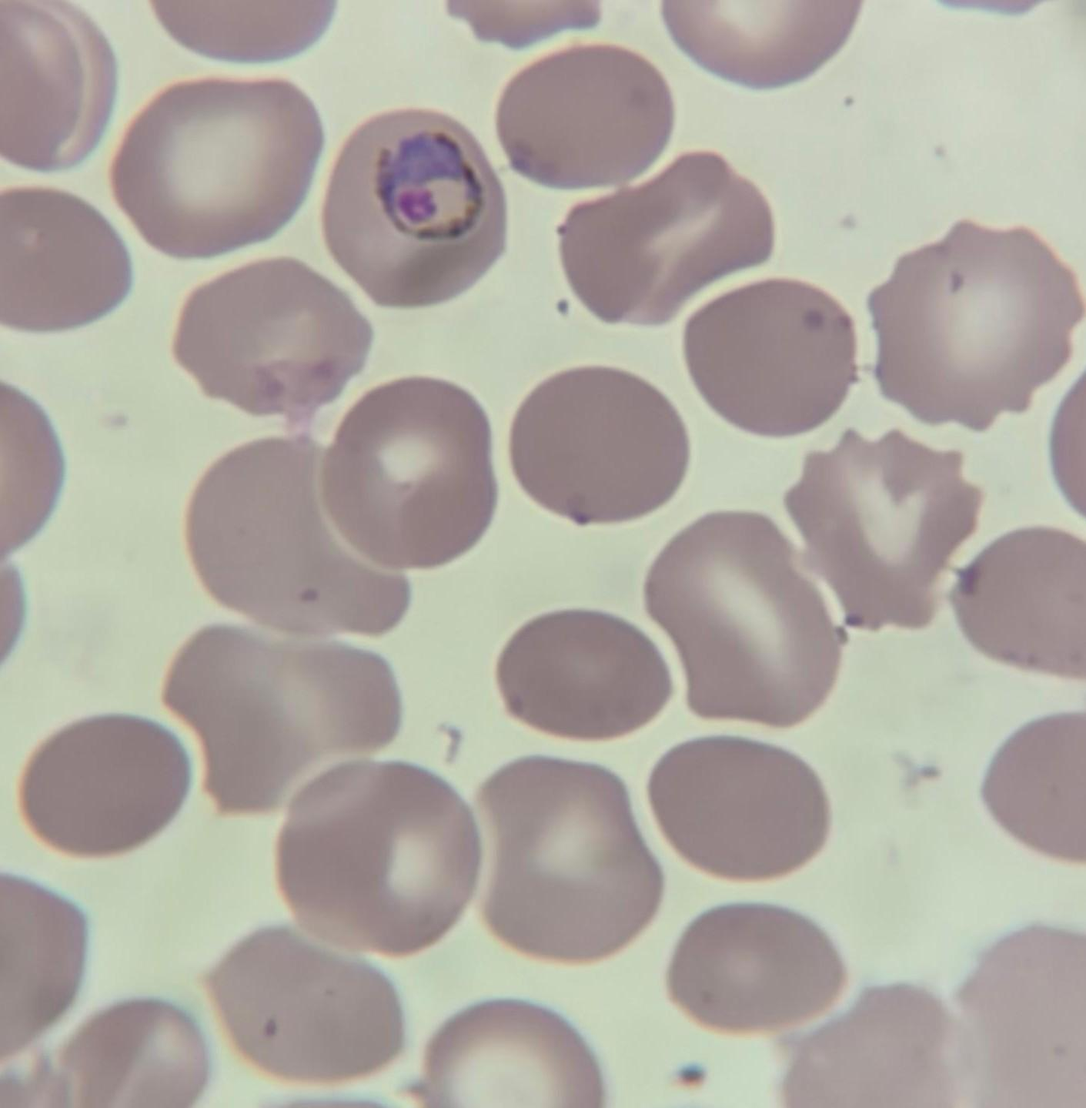Infected: (318, 109, 513, 307)
Uninfected: (867, 222, 1078, 431), (198, 435, 409, 636), (169, 627, 397, 812), (785, 427, 973, 643), (647, 506, 828, 718), (480, 755, 665, 960), (118, 73, 313, 266), (275, 761, 479, 939), (318, 365, 491, 566), (562, 155, 763, 326), (200, 920, 405, 1081), (185, 263, 373, 424), (503, 363, 681, 527), (498, 50, 681, 194), (652, 735, 833, 879), (685, 286, 853, 434), (18, 709, 180, 859), (495, 607, 672, 742), (672, 899, 836, 1032), (0, 178, 133, 323)
